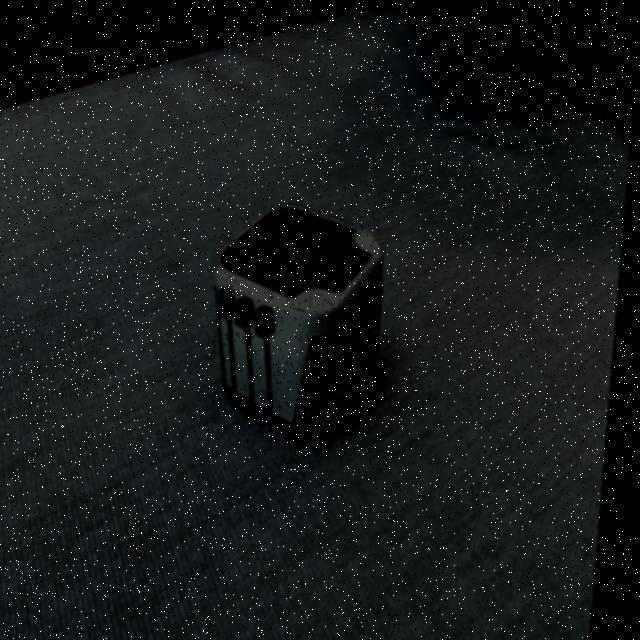adapter: (207, 199, 394, 443)
